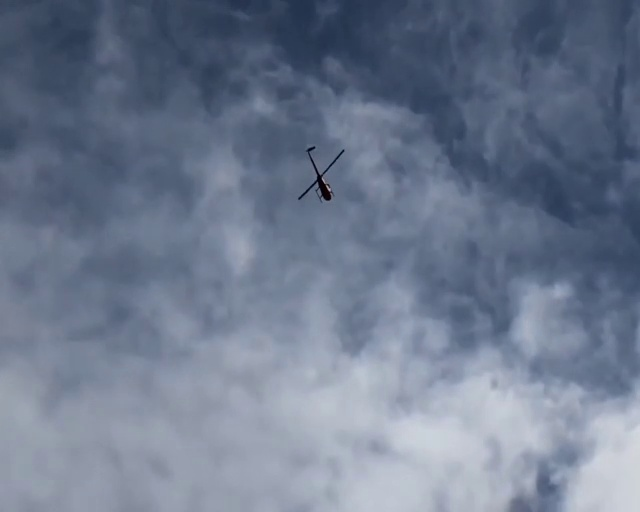HELICOPTER: (298, 145, 345, 202)
